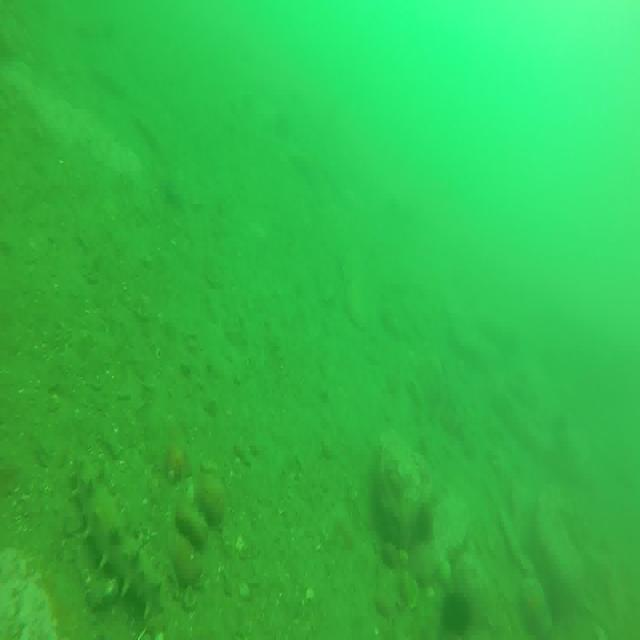echinus: (439, 586, 474, 640)
holothurian: (74, 459, 164, 618)
